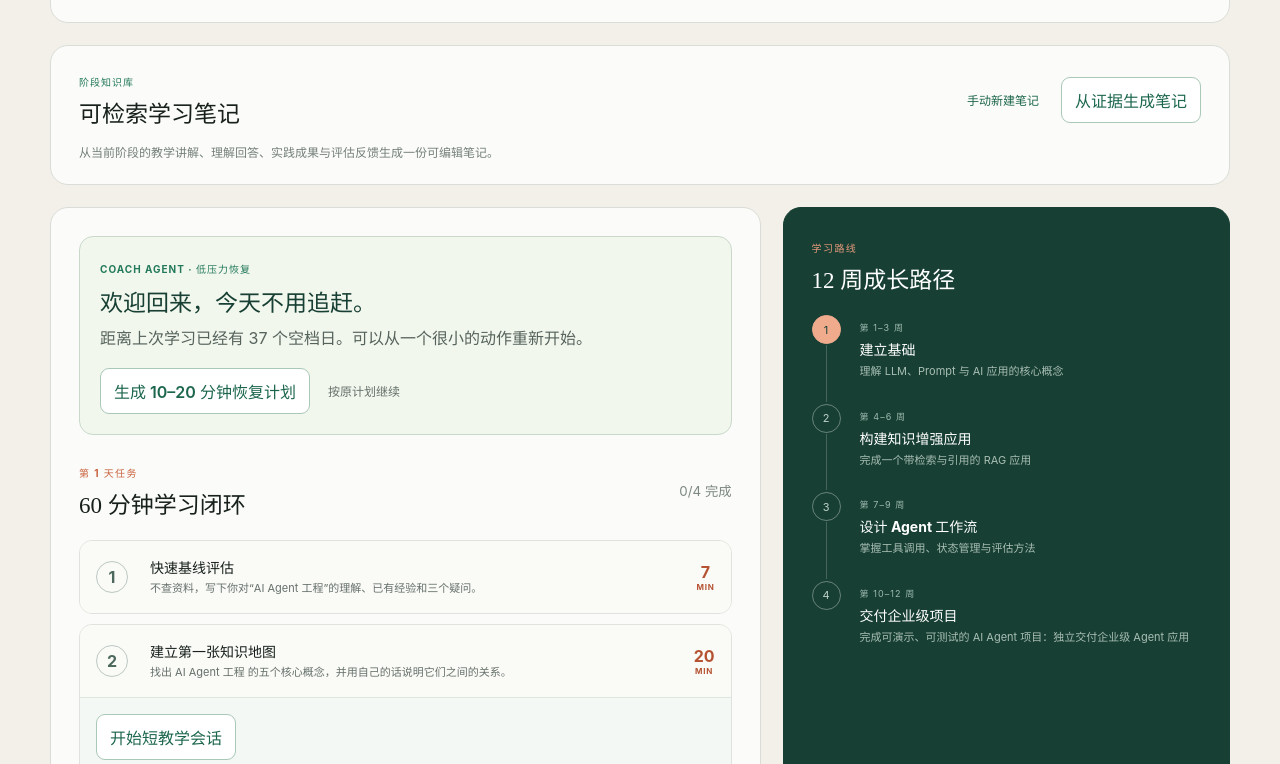
Scenario: learning data controls › offers and renders a low-pressure Coach plan after missed learning days
(page scrolled)
Expected: the heading "欢迎回来，今天不用追赶。" is shown, [100,291,376,316]
Click the button "生成 10–20 分钟恢复计划" at (205, 391), box [100,368,310,414]
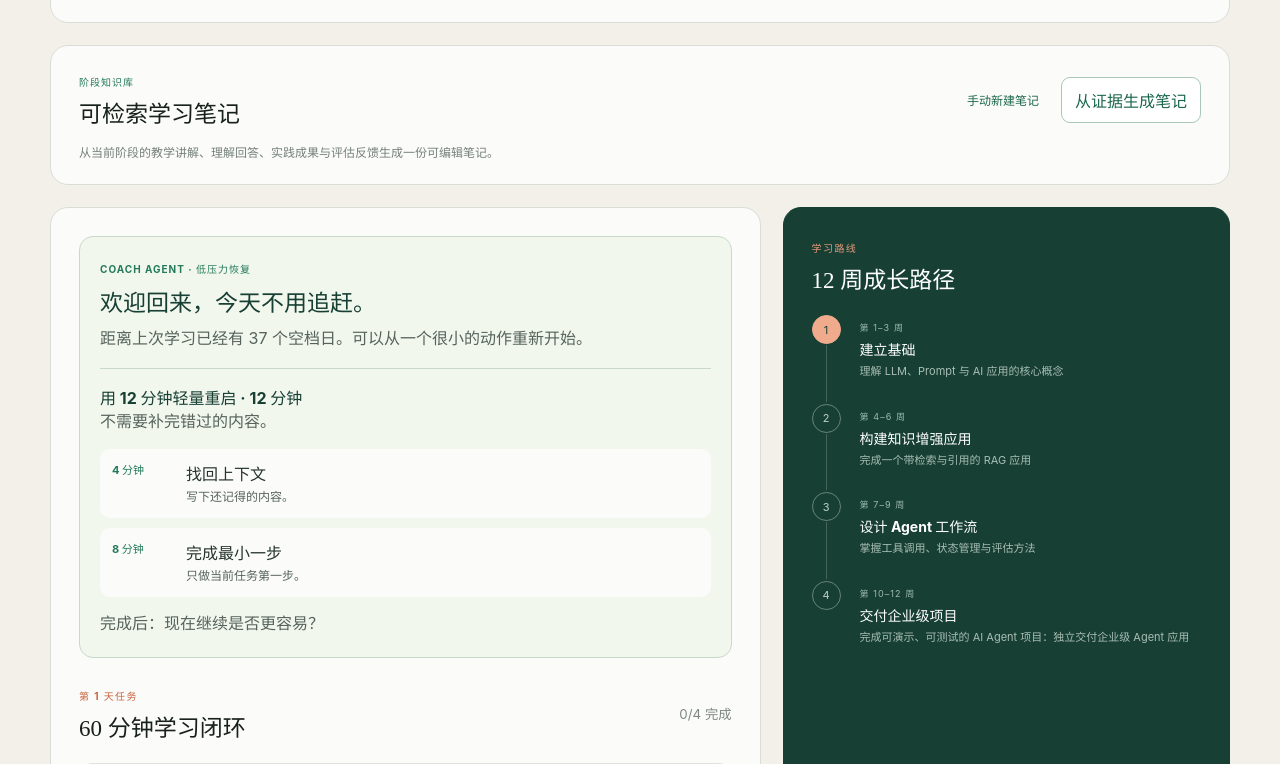
Now the text "用 12 分钟轻量重启 · 12 分钟" is shown, box [100,388,302,408]
Now the text "完成最小一步" is shown, box [186,543,282,563]
Now the message shows "现在继续是否更容易", box [164,613,324,633]
